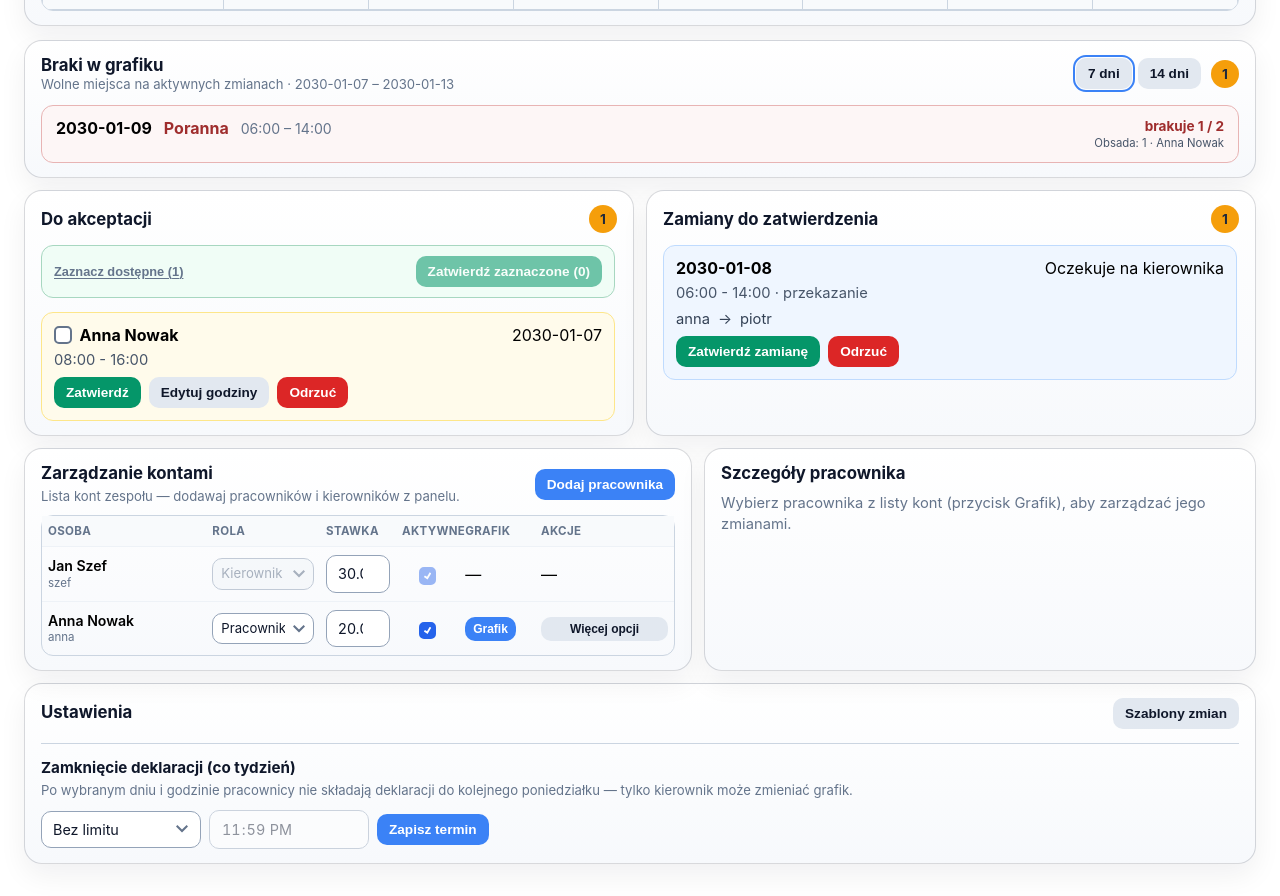
Scenario: changing an hourly rate saves it on blur
(page scrolled)
Expected: the text "Anna Nowak" below "Do akceptacji" is shown, 80,325 -> 178,345
Replace the text in the 2nd number field with "25". click: (358, 628)
box: 326,610 -> 390,647
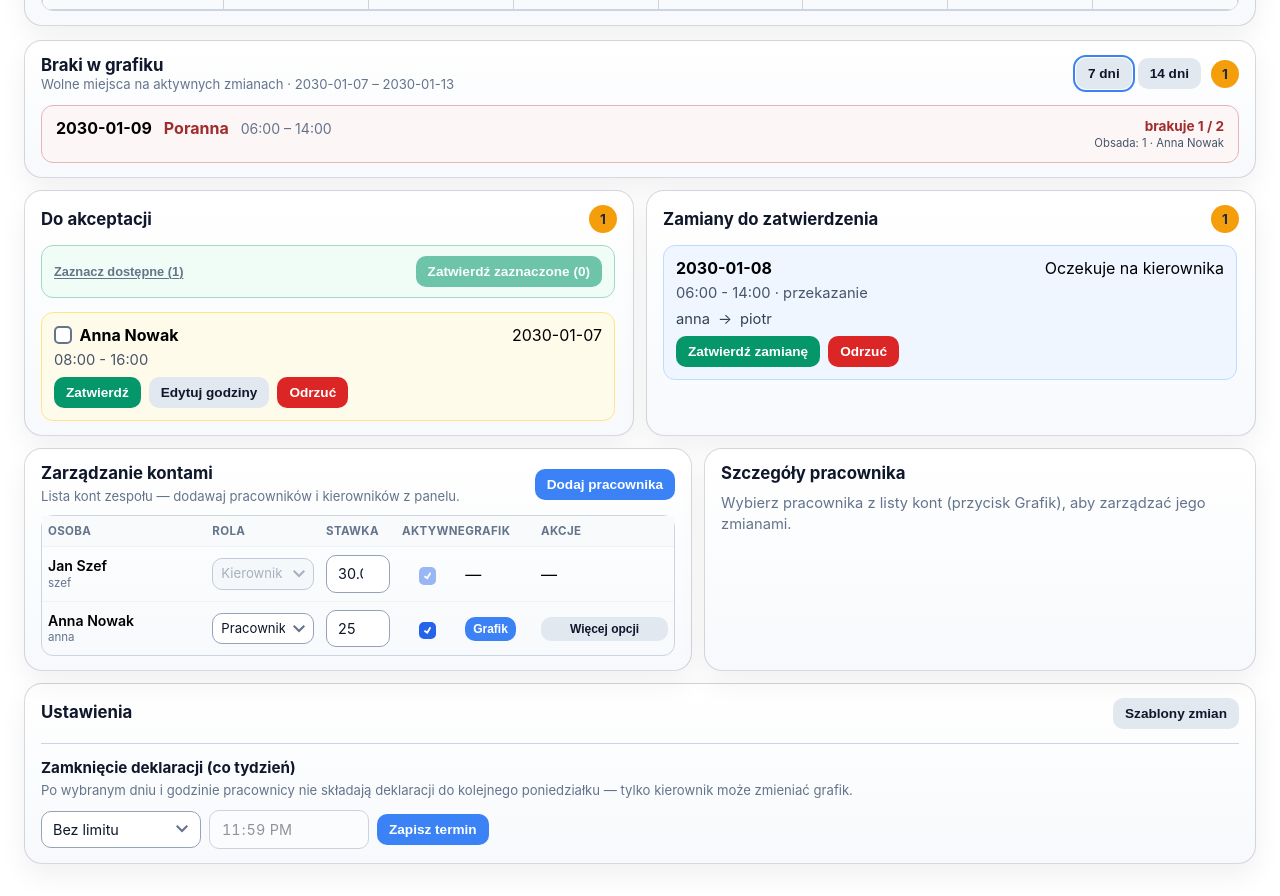
Leave the 2nd number field, box 326,610 -> 390,647
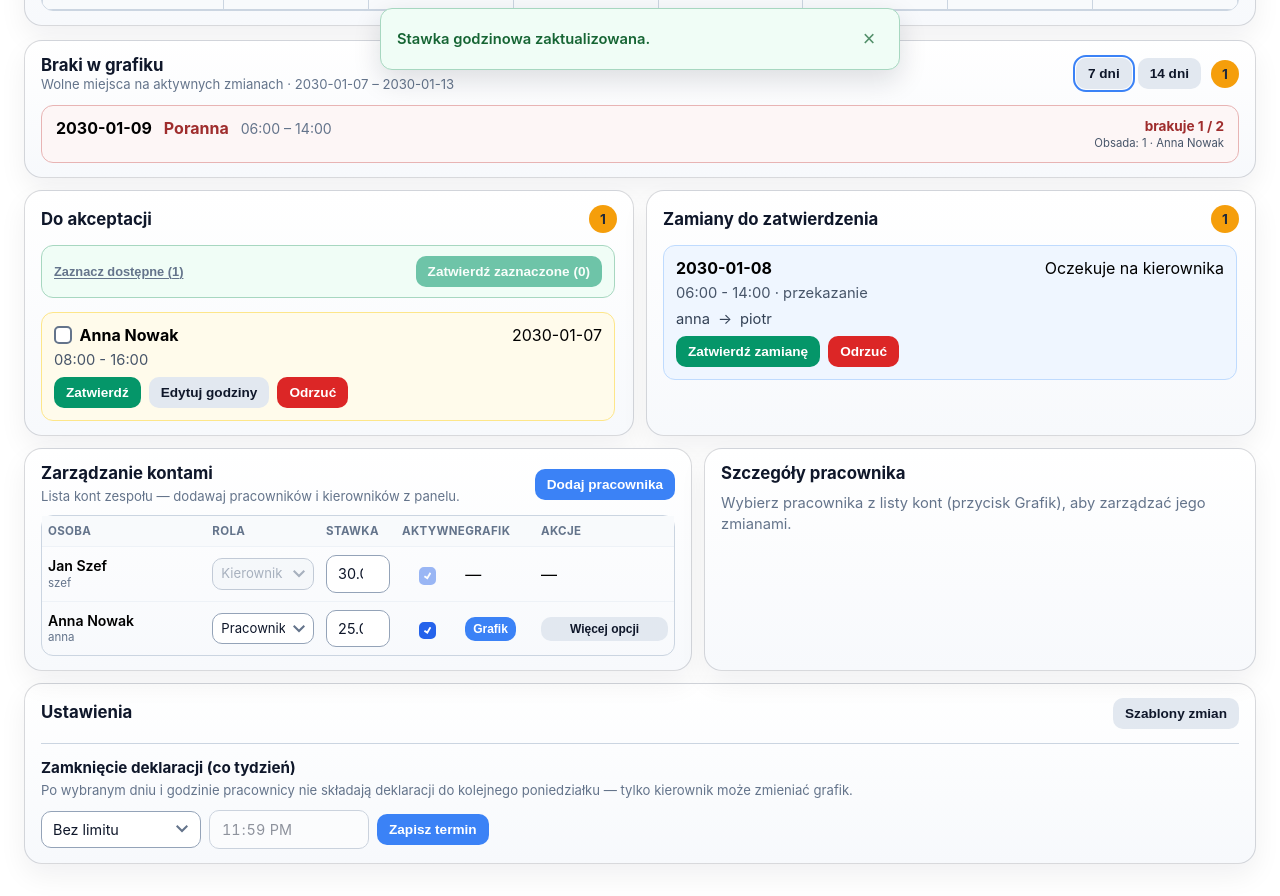
Expected: the text "Stawka godzinowa zaktualizowana." is shown, 397,30 -> 650,48
